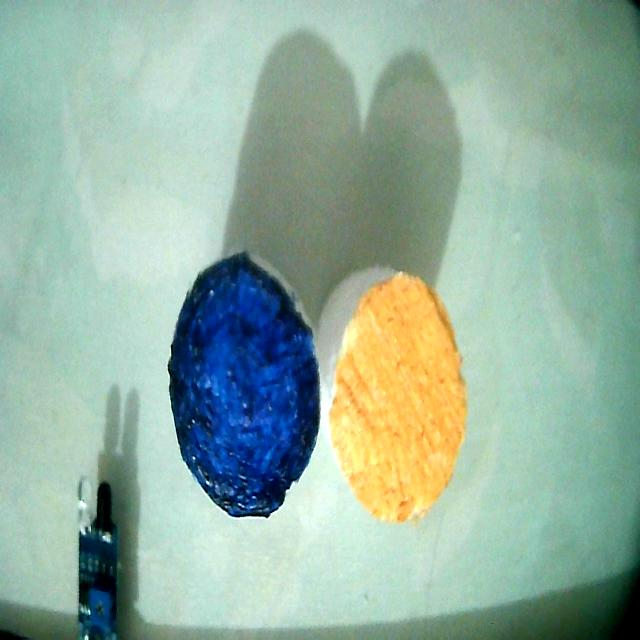blue: (169, 254, 319, 517)
yellow: (330, 274, 466, 522)
